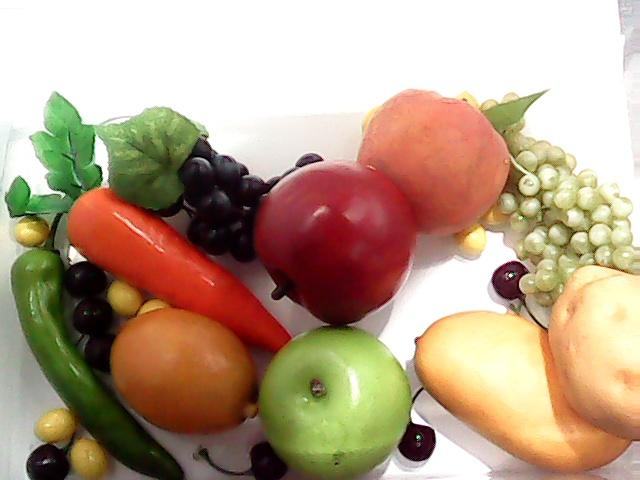apple: (246, 318, 418, 479), (251, 160, 415, 324)
carrot: (1, 90, 292, 356)
grape: (480, 119, 640, 277), (158, 124, 302, 250)
lemon: (98, 298, 282, 434)
mango: (409, 312, 626, 470)
peach: (359, 90, 513, 238)
pepper: (11, 197, 183, 480)
potato: (546, 264, 640, 442)
